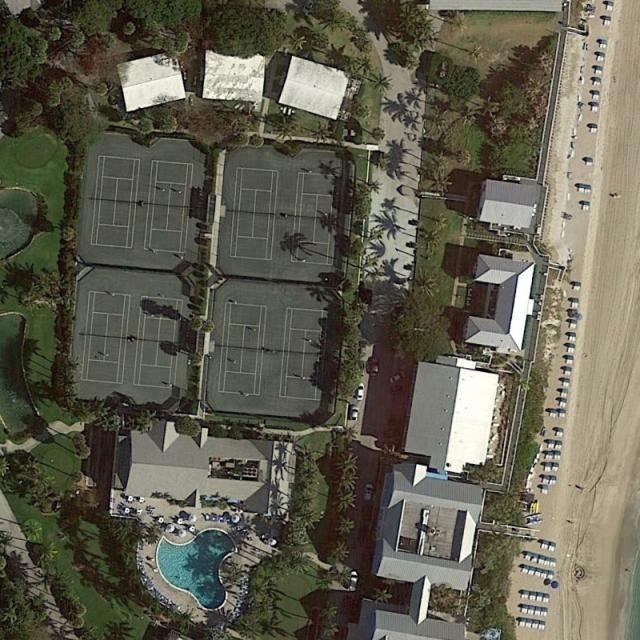vehicle: (354, 382, 364, 400), (359, 338, 368, 357), (365, 484, 374, 501), (350, 572, 357, 592), (350, 405, 358, 422), (371, 358, 378, 376), (390, 373, 404, 382)
